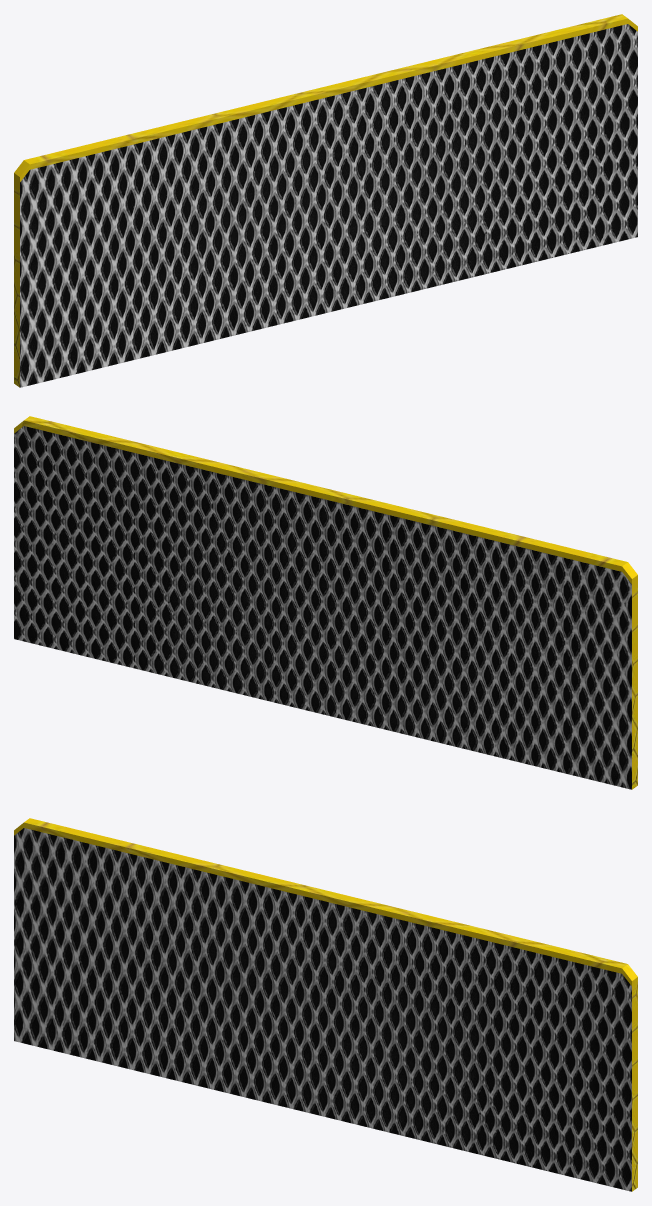
The model's file is wall.fbx.
3 views of the same model, one above another, from view 1: azimuth 30°, elevation 25°; view 2: azimuth 150°, elevation 25°; view 3: azimuth 330°, elevation 25° (orthographic).
Visible parts, largest first — view 1: Cube; view 2: Cube; view 3: Cube.
Part boxes in pixels (x1,y1,x2,y2): Cube: (14, 14, 637, 387); Cube: (14, 416, 637, 789); Cube: (14, 818, 637, 1191).
Size of the model in its own units: 600 by 205 by 10.
2 materials, 2 textured.
